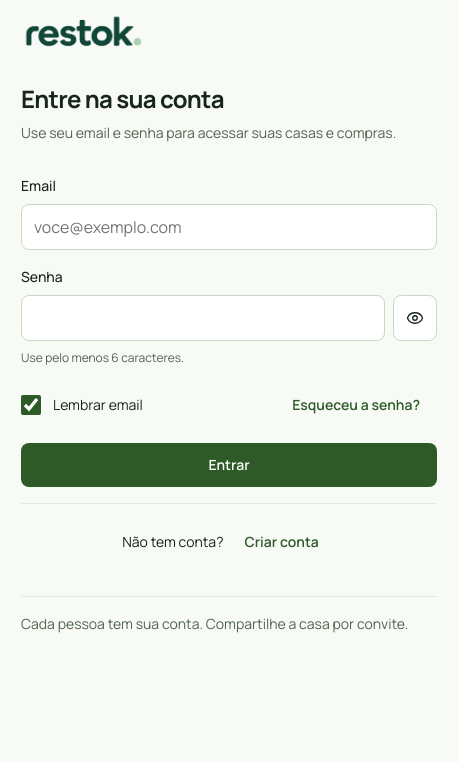
login form › shows a signup failure without leaving the form
Click the button "Criar conta".
click(282, 542)  # box [228,520,336,564]
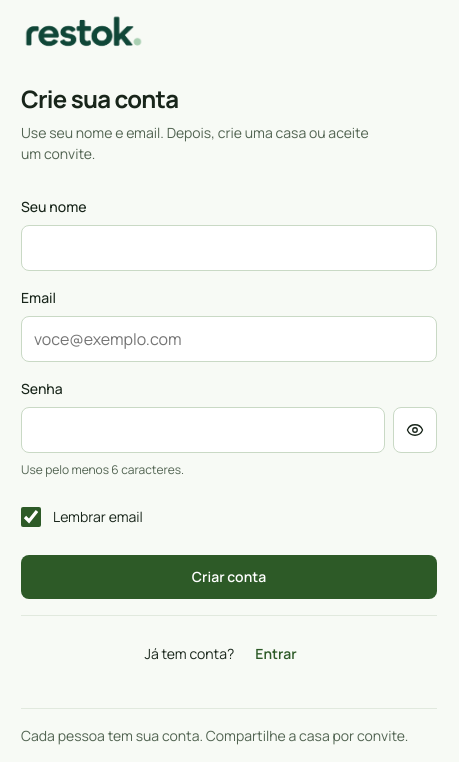
Type "Ana" into the field labelled "Seu nome".
click(229, 248); type("Ana")  # box [21,225,437,271]
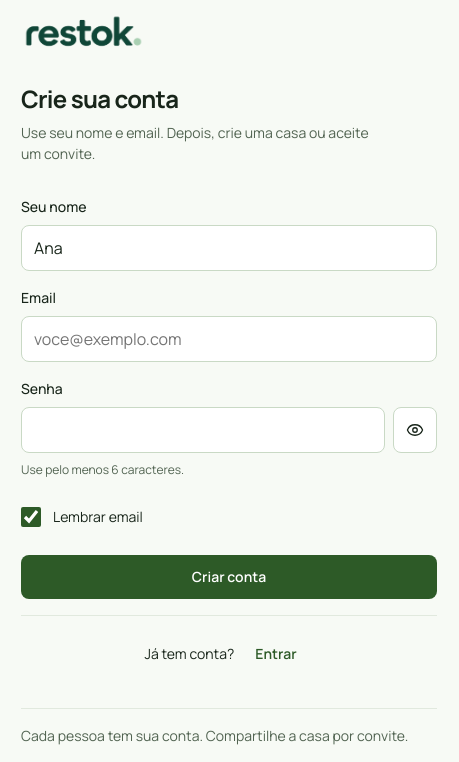
Type "casa@example.com" into the field with id "email".
click(229, 339); type("casa@example.com")  # box [21,316,437,362]
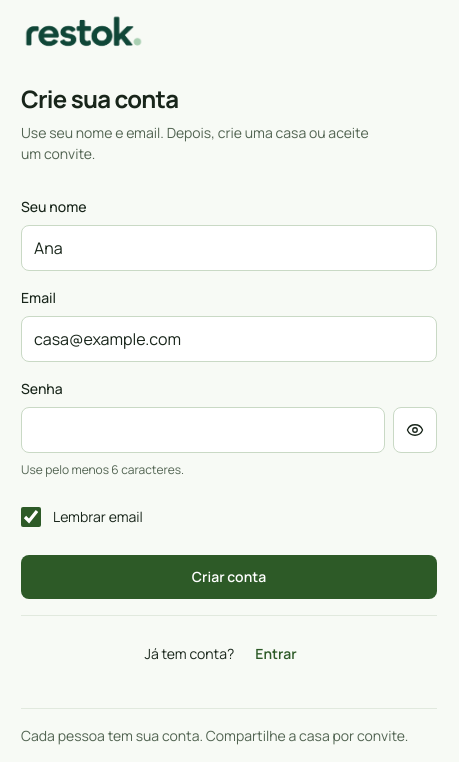
Type "segredo" into the password field labelled "Senha".
click(203, 430); type("segredo")  # box [21,407,385,453]
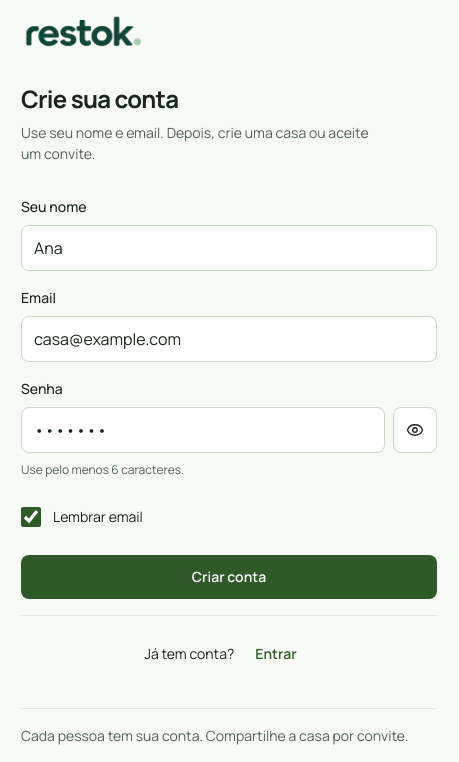
Click the button "Criar conta".
click(229, 577)  # box [21,555,437,599]
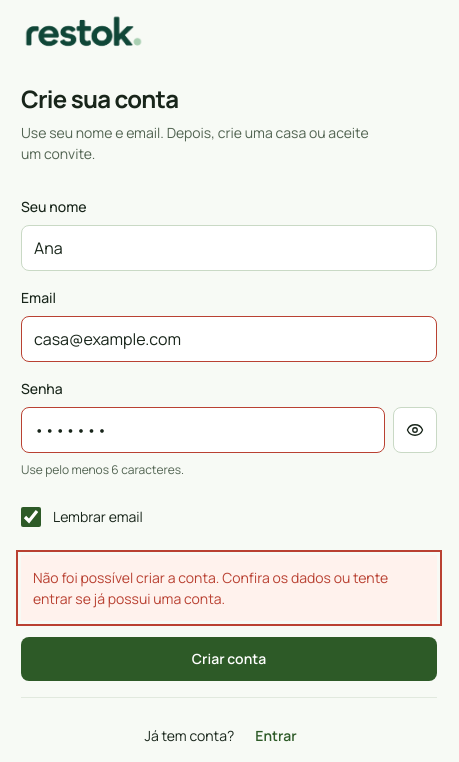
Check: the heading "Crie sua conta" is shown, box [21,82,178,115]
Check: the message shows "Não foi possível criar a conta. Confira os dados ou tente entrar se já possui uma conta.", box [33,568,388,608]
